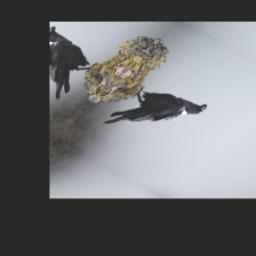Crow: (98, 75, 212, 155)
